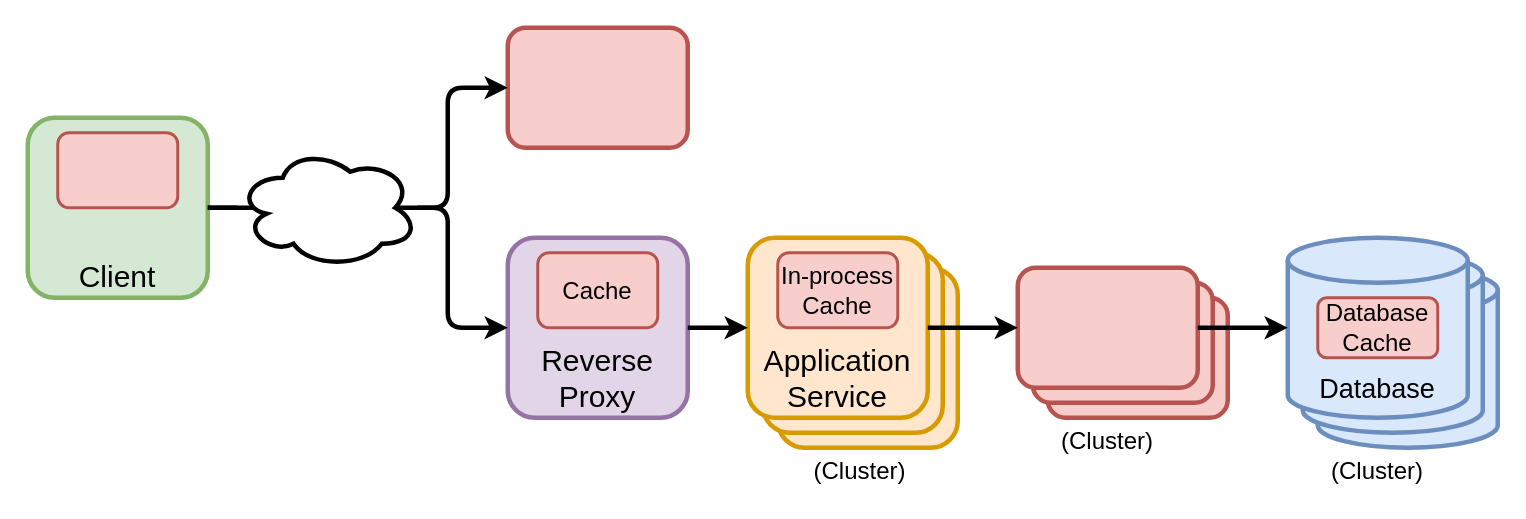
Image size: 1526x519. Some labels were removed from this diagram. Here are the shapes that lost their labels. From the top down, the centre of each, then its label:
At point 597,87: "CDN".
At point 117,169: "Browser Cache".
At point 1107,327: "Application Cache".
